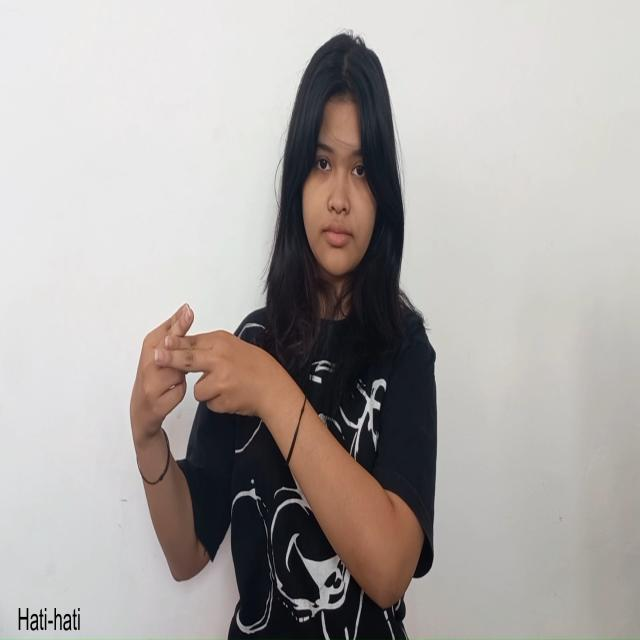Hati-hati -BISINDO-: (128, 299, 275, 443)
